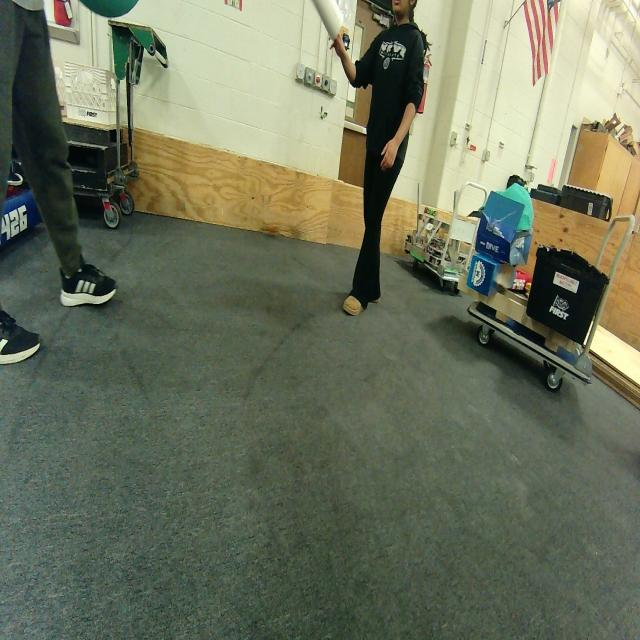coral: (310, 0, 346, 48)
